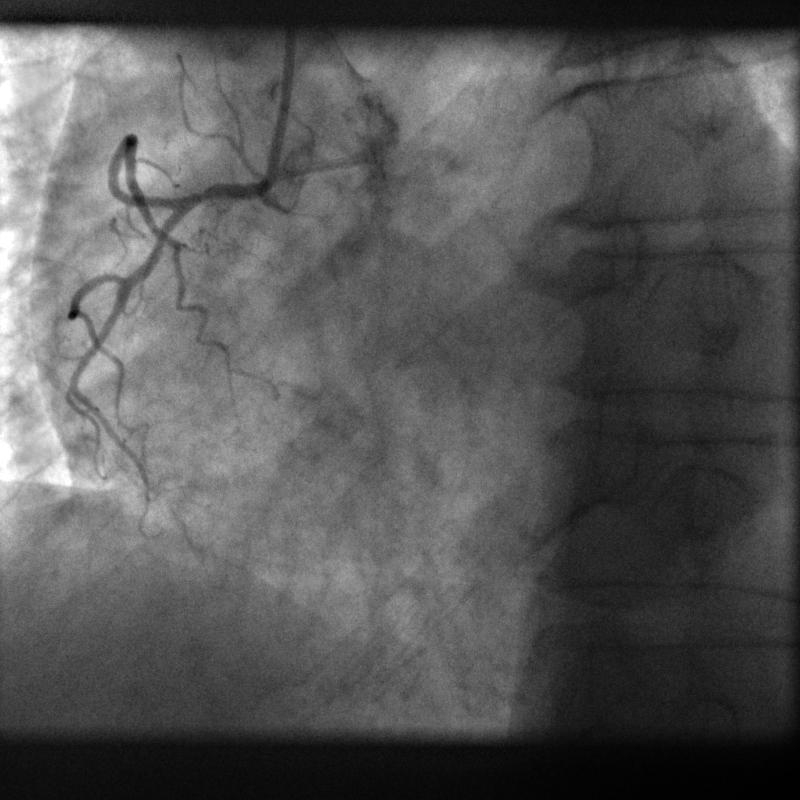Stenosis: (178, 179, 223, 217)
